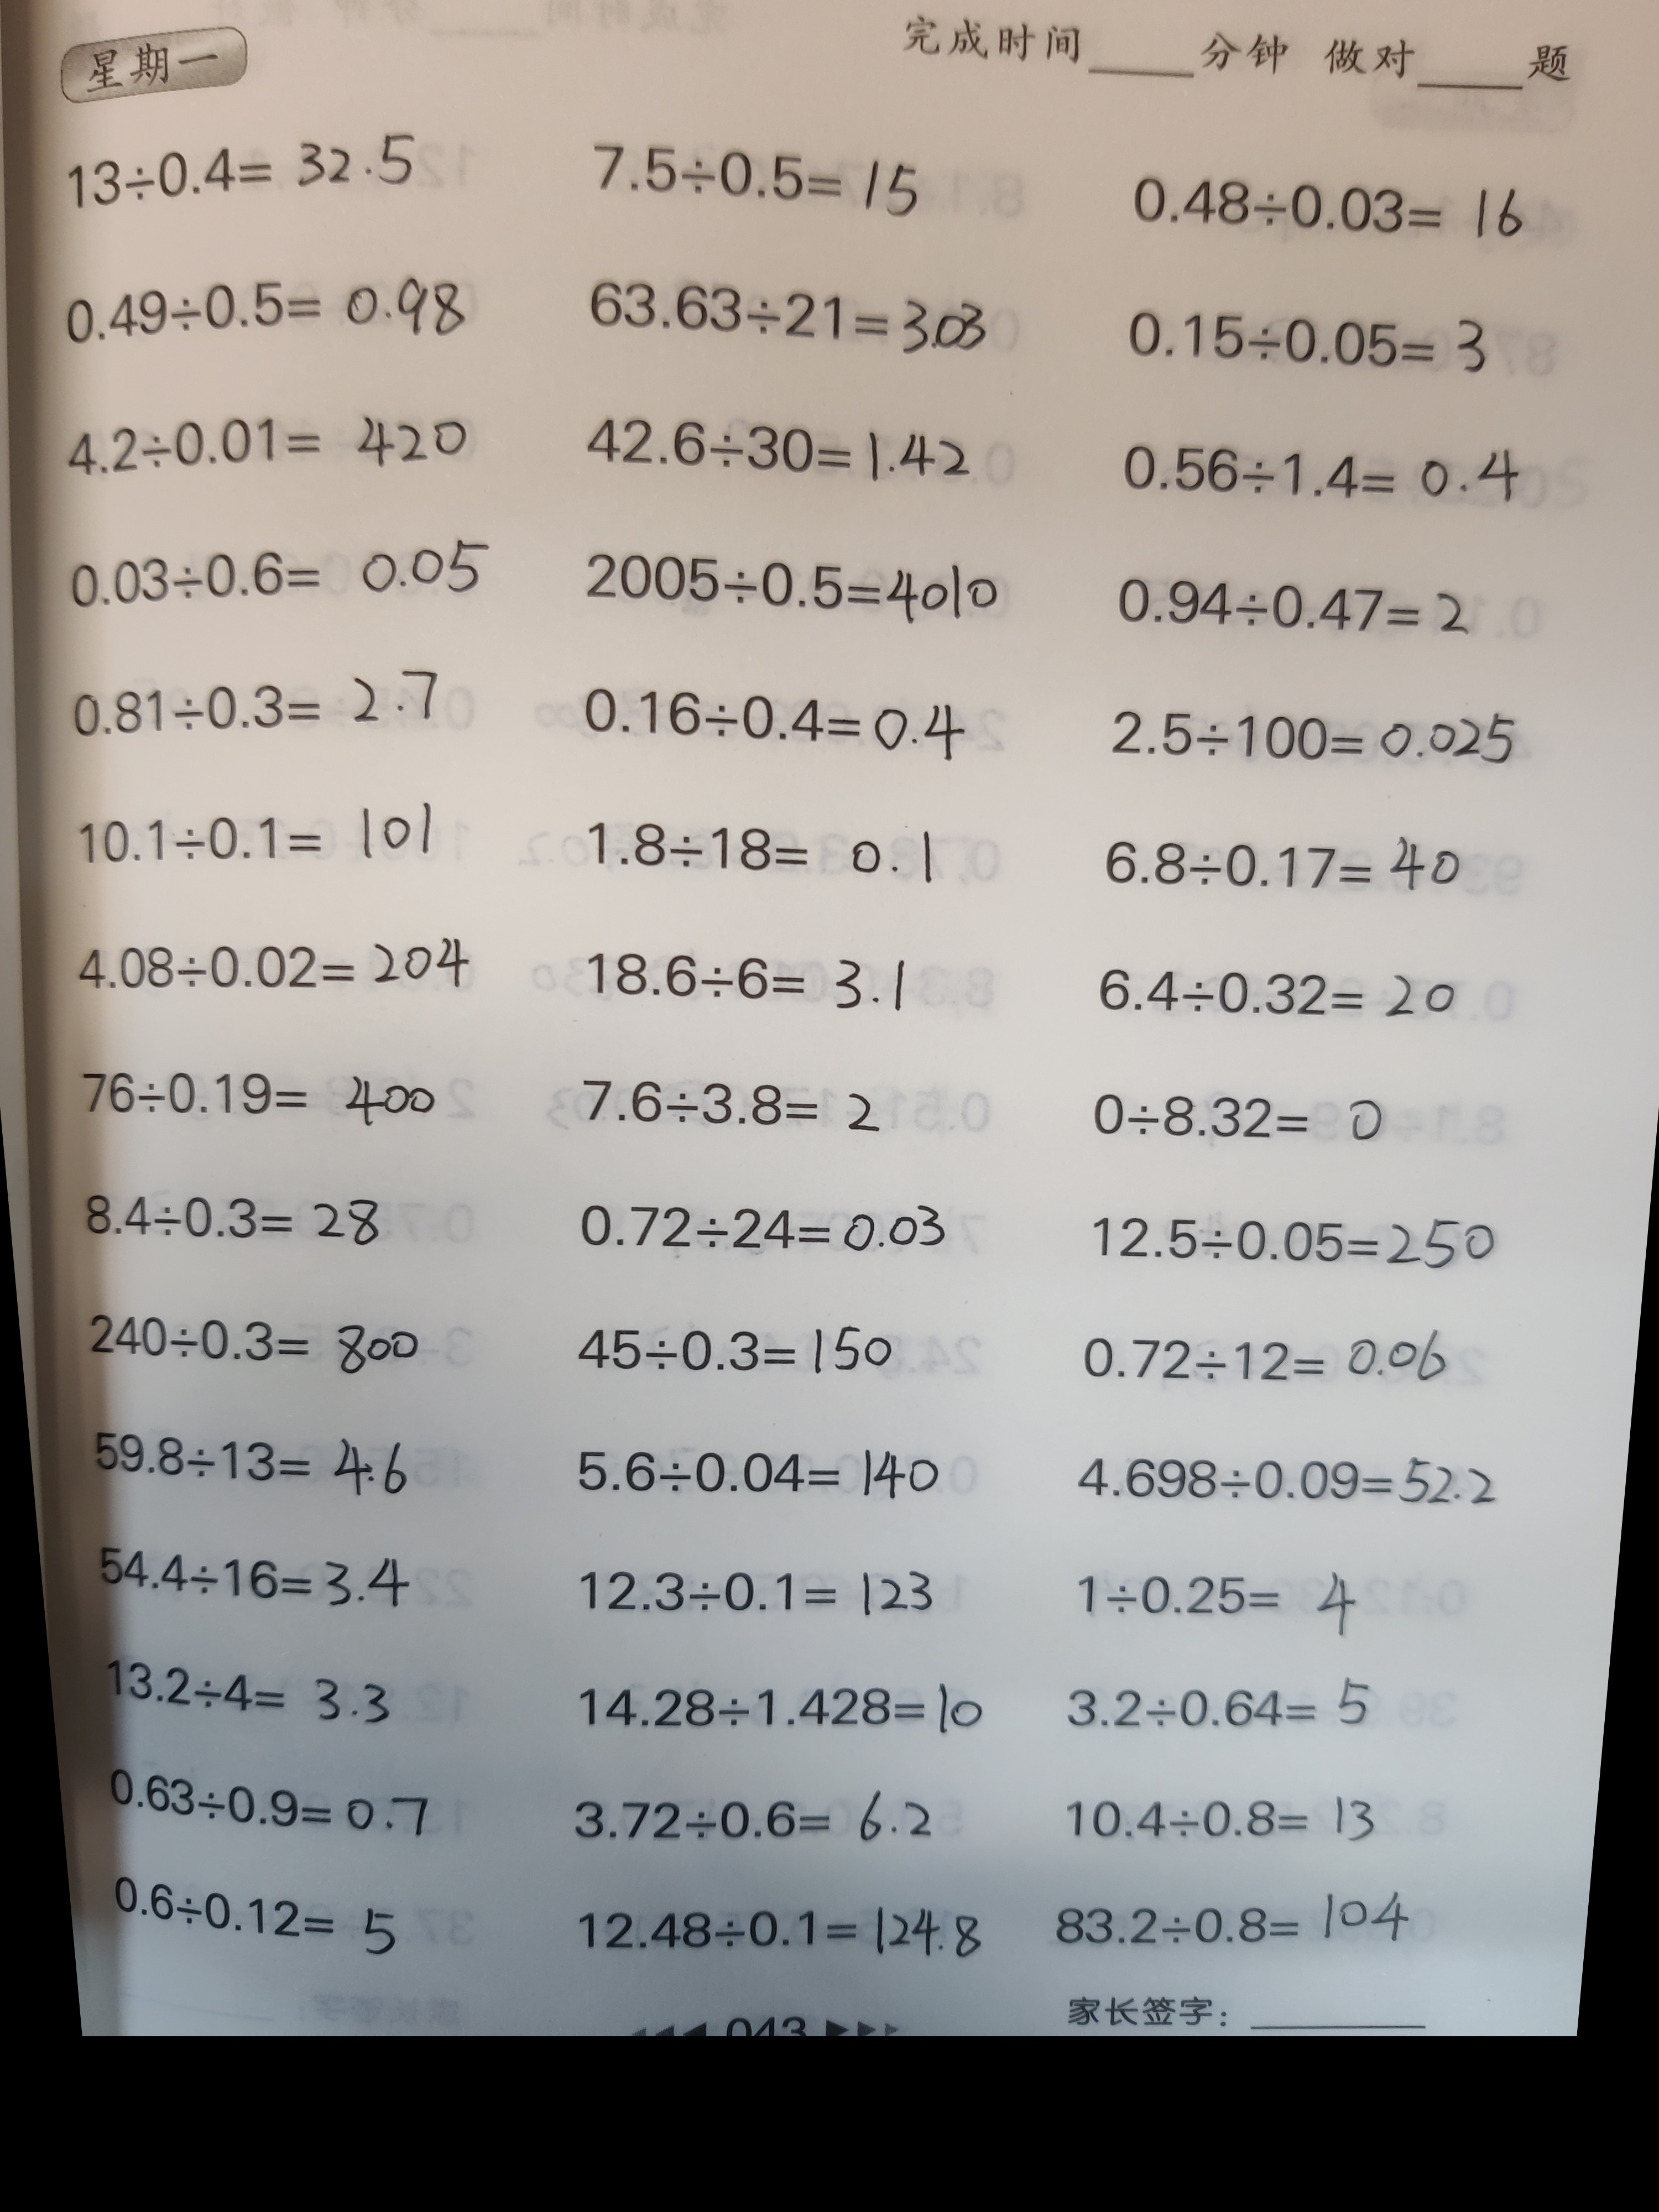equation: (1094, 129, 1545, 268), (563, 390, 993, 514), (1095, 278, 1517, 399), (567, 254, 1003, 367), (567, 537, 1015, 642), (573, 102, 940, 229), (1098, 686, 1535, 792), (591, 790, 959, 914), (40, 388, 477, 491), (58, 773, 447, 885), (1054, 1426, 1510, 1519), (52, 651, 457, 754), (48, 267, 481, 362), (567, 669, 971, 769), (1088, 951, 1475, 1052), (550, 1170, 956, 1266), (551, 1426, 957, 1522), (1097, 424, 1527, 514), (1096, 562, 1489, 660), (36, 116, 424, 213), (55, 529, 508, 609), (579, 927, 927, 1031), (1079, 819, 1472, 911), (562, 1887, 997, 1970), (69, 920, 495, 1004), (78, 1299, 442, 1395), (577, 1047, 908, 1151), (1041, 1876, 1421, 1966), (568, 1778, 951, 1867), (567, 1671, 992, 1750), (62, 1166, 405, 1263), (563, 1299, 905, 1395), (1065, 1319, 1462, 1401), (1082, 1199, 1515, 1274), (62, 1052, 436, 1135), (102, 1757, 439, 1850), (84, 1418, 426, 1509), (90, 1534, 429, 1624), (1051, 1665, 1386, 1751), (1079, 1072, 1399, 1162), (109, 1871, 417, 1964), (100, 1643, 400, 1736), (568, 1561, 944, 1634), (1042, 1561, 1382, 1637), (1052, 1783, 1383, 1860)
